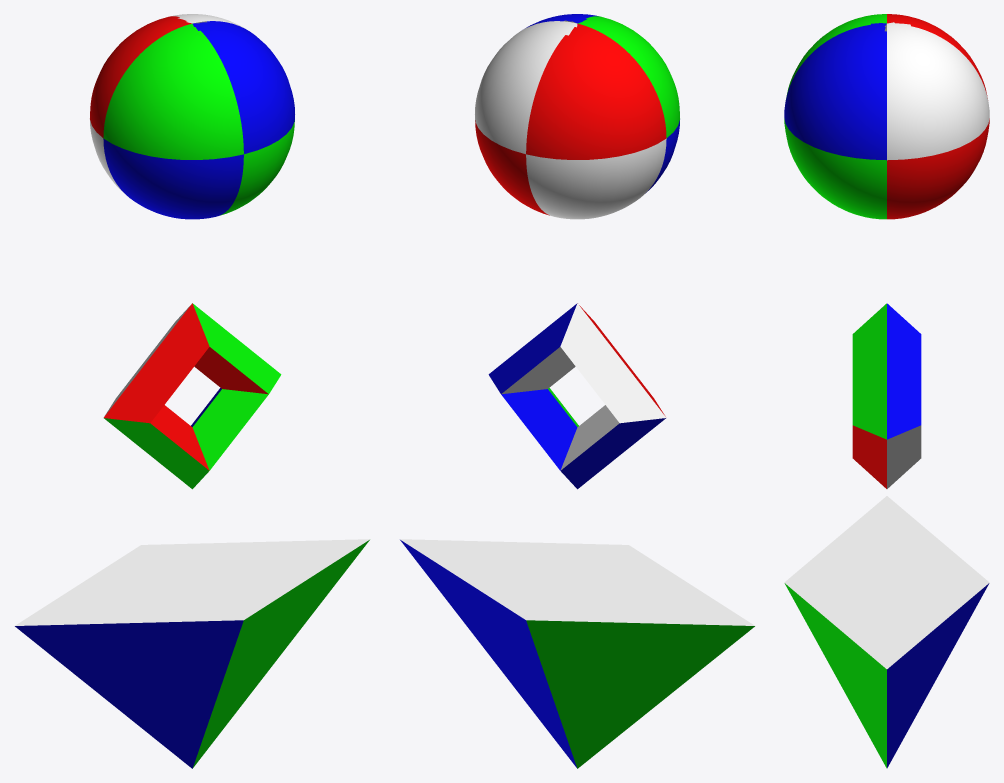
The model's file is ARBBTest.obj.
3 views of the same model, side by side, from view 1: azimuth 30°, elevation 25°; view 2: azimuth 150°, elevation 25°; view 3: azimuth 270°, elevation 25° (orthographic).
Visible parts, largest first — view 1: pTorus2; view 2: pTorus2; view 3: pTorus2.
Part boxes in pixels (bbox=[...]): pTorus2: bbox=[15, 14, 369, 768]; pTorus2: bbox=[400, 14, 754, 768]; pTorus2: bbox=[784, 14, 989, 768].
Bounding box in the file's own units: 4 × 8 × 2.
